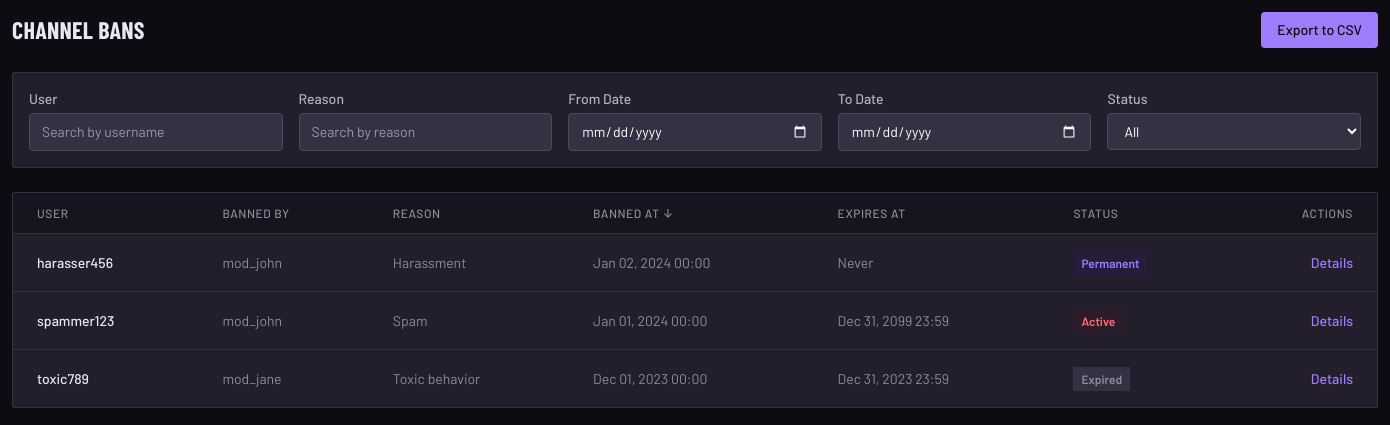
it: BanListViewer › Sorting › toggles sort direction when same header is clicked twice
Expected: the text "spammer123" is shown, [13,292,198,350]
Click the column heading "User". click: (53, 213)
box: [13,193,198,234]
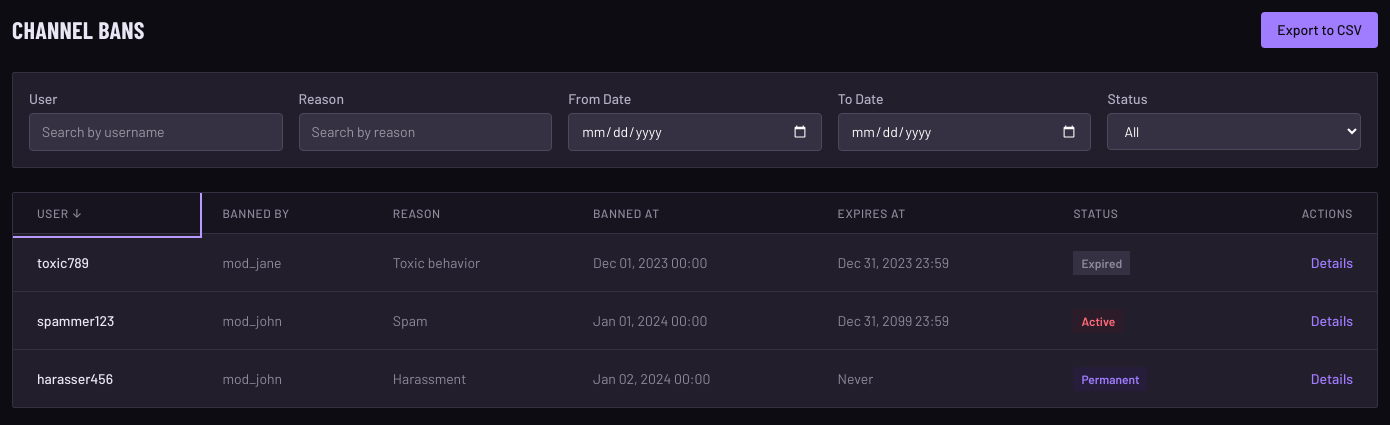
Result: the column heading "User ↓" is shown
Click the column heading "User ↓". click: (53, 213)
box: [13,193,198,234]
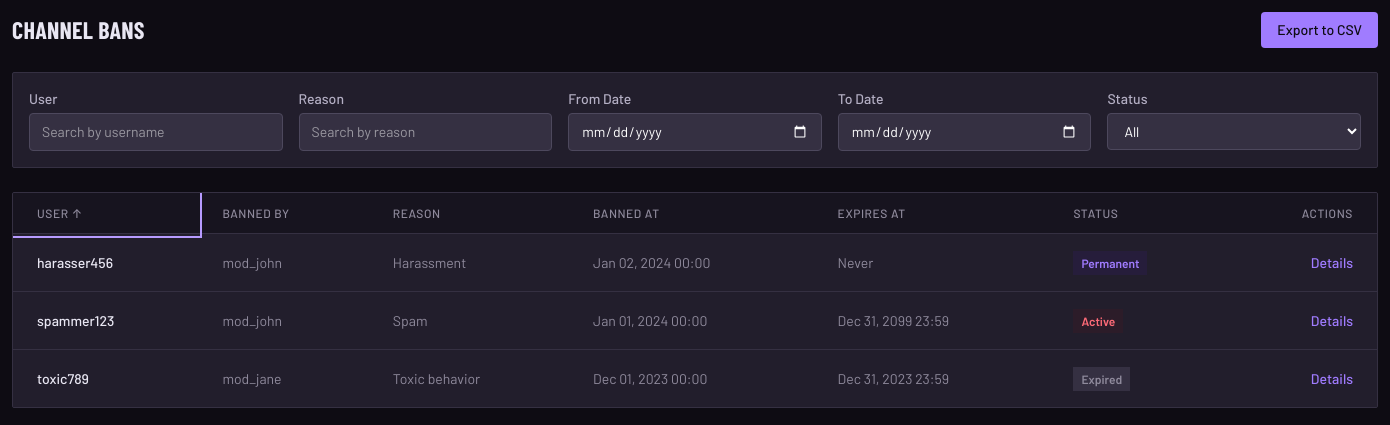
Result: the column heading "User ↑" is shown at [13,193,198,234]
